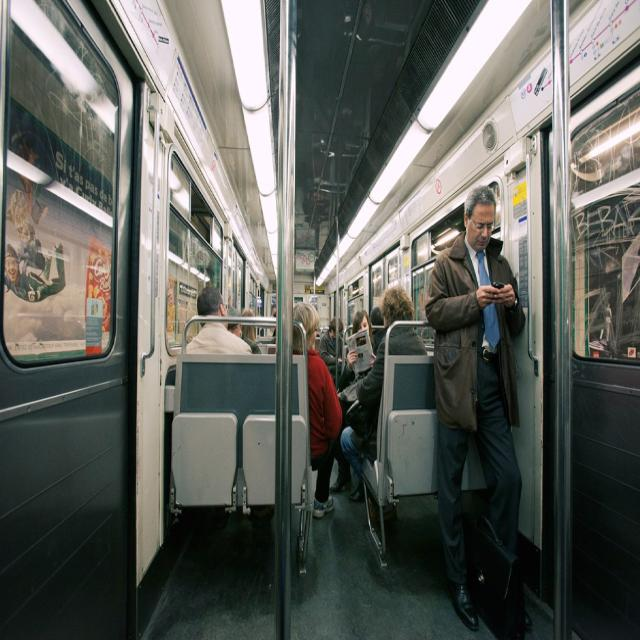body: (422, 181, 537, 636), (339, 281, 429, 505), (292, 300, 343, 519), (328, 308, 379, 494), (295, 105, 351, 256), (184, 286, 253, 357), (2, 241, 66, 304), (342, 1, 393, 45), (358, 302, 393, 360), (318, 315, 344, 392), (225, 305, 262, 356), (240, 303, 266, 358), (265, 297, 280, 345)
